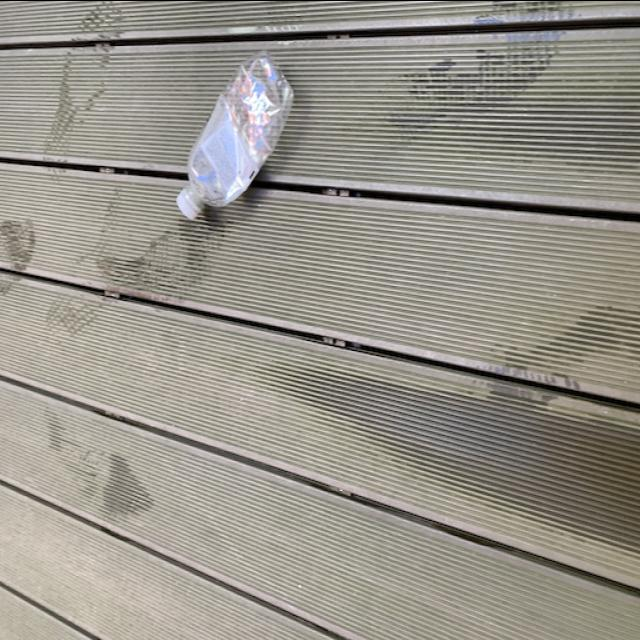litter: (173, 55, 297, 226)
